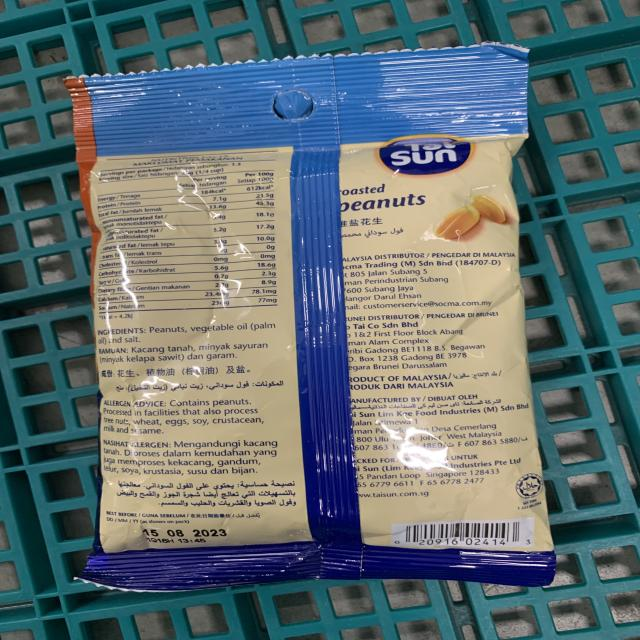object_name: (77, 65, 552, 574)
